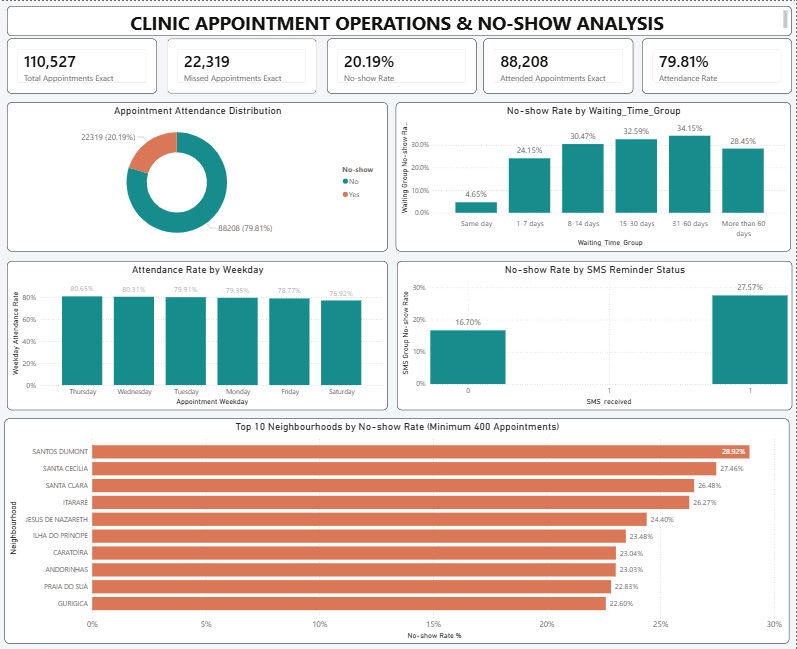

What the dashboard file says about the page in this screenshot:
{"tool":"powerbi","page":{"name":"Page 1","canvas":[1600,1300],"ordinal":0},"visuals":[{"type":"cardVisual","fields":{"Data":["Cleaned_data.Total Appointments Exact"]},"box":[20,75,300,110],"z":0},{"type":"cardVisual","fields":{"Data":["Cleaned_data.Attended Appointments Exact"]},"box":[973,75.1,300.3,110.4],"z":1000},{"type":"cardVisual","fields":{"Data":["Cleaned_data.Missed Appointments Exact"]},"box":[340,75,299.6,110],"z":2000},{"type":"cardVisual","fields":{"Data":["Cleaned_data.Attendance Rate"]},"box":[1289.4,75.1,300.3,110.4],"z":3000},{"type":"cardVisual","fields":{"Data":["Cleaned_data.No-show Rate"]},"box":[660,75,299.6,110],"z":4000},{"type":"donutChart","title":"Appointment Attendance Distribution","fields":{"Category":["Cleaned_data.No-show"],"Y":["CountNonNull(Cleaned_data.AppointmentID)"]},"box":[19.9,203.1,761.7,298.1],"z":5000},{"type":"clusteredColumnChart","title":"No-show Rate by Waiting_Time_Group","fields":{"Category":["Cleaned_data.Waiting_Time_Group"],"Y":["Cleaned_data.Waiting Group No-show Rate"]},"box":[798,203.1,790.4,298.1],"z":6000},{"type":"textbox","box":[19.9,11,1569.8,59.6],"z":6001},{"type":"clusteredColumnChart","title":"No-show Rate by SMS Reminder Status","fields":{"Category":["Cleaned_data.SMS_received"],"Y":["Cleaned_data.SMS Group No-show Rate"]},"box":[799.3,521.1,790.4,298.1],"z":6002},{"type":"clusteredColumnChart","title":"Attendance Rate by Weekday","fields":{"Category":["Cleaned_data.Appointment Weekday"],"Y":["Cleaned_data.Weekday Attendance Rate"]},"box":[19.9,521.1,761.7,298.1],"z":6003},{"type":"clusteredBarChart","title":"Top 10 Neighbourhoods by No-show Rate (Minimum 400 Appointments)","fields":{"Category":["Cleaned_data.Neighbourhood"],"Y":["Cleaned_data.Neighbourhood No-show Rate"]},"box":[15.5,834.6,1569.8,450.4],"z":6004}]}

Visuals, with their boxes in screenshot pixels (x1, y1, x2, y2), scaled from the page's 1600x1300 canvas onto the 797x649 screenshot:
cardVisual - Cleaned_data.Total Appointments Exact: {"x1": 10, "y1": 37, "x2": 159, "y2": 92}
cardVisual - Cleaned_data.Attended Appointments Exact: {"x1": 485, "y1": 37, "x2": 634, "y2": 93}
cardVisual - Cleaned_data.Missed Appointments Exact: {"x1": 169, "y1": 37, "x2": 319, "y2": 92}
cardVisual - Cleaned_data.Attendance Rate: {"x1": 642, "y1": 37, "x2": 792, "y2": 93}
cardVisual - Cleaned_data.No-show Rate: {"x1": 329, "y1": 37, "x2": 478, "y2": 92}
"Appointment Attendance Distribution" donutChart: {"x1": 10, "y1": 101, "x2": 389, "y2": 250}
"No-show Rate by Waiting_Time_Group" clusteredColumnChart: {"x1": 398, "y1": 101, "x2": 791, "y2": 250}
textbox: {"x1": 10, "y1": 5, "x2": 792, "y2": 35}
"No-show Rate by SMS Reminder Status" clusteredColumnChart: {"x1": 398, "y1": 260, "x2": 792, "y2": 409}
"Attendance Rate by Weekday" clusteredColumnChart: {"x1": 10, "y1": 260, "x2": 389, "y2": 409}
"Top 10 Neighbourhoods by No-show Rate (Minimum 400 Appointments)" clusteredBarChart: {"x1": 8, "y1": 417, "x2": 790, "y2": 642}
